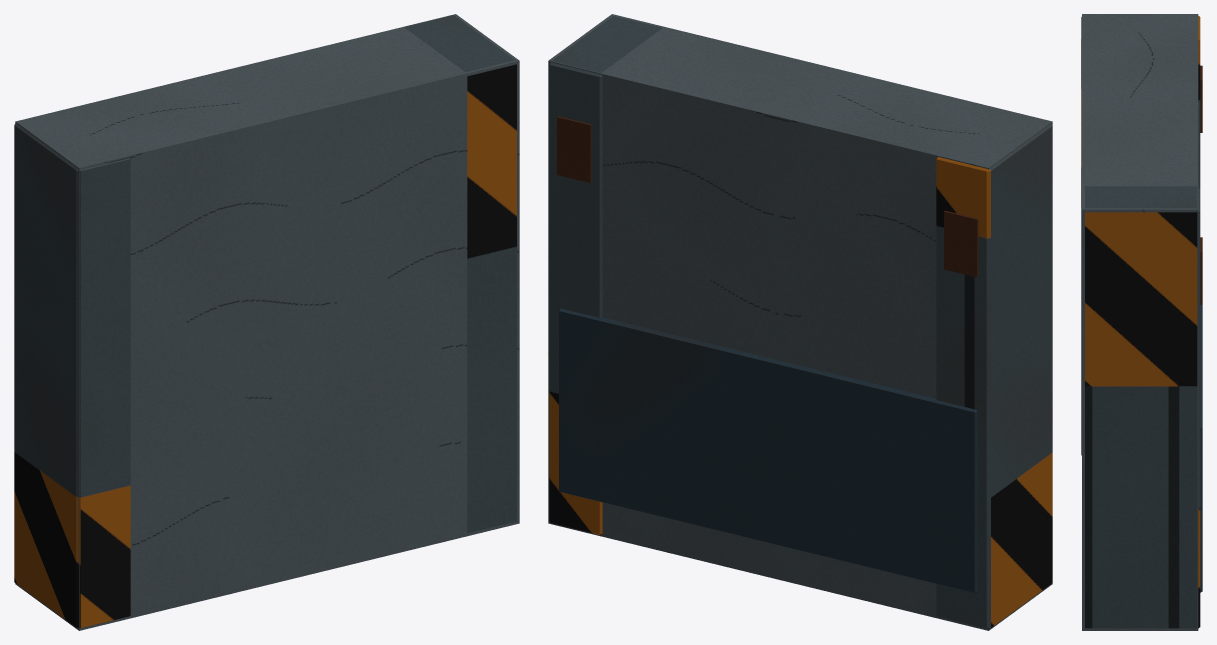
Rendered from Wall_Straight4.fbx.
The picture shows the model from 3 angles, left to right: view 1: azimuth 30°, elevation 25°; view 2: azimuth 150°, elevation 25°; view 3: azimuth 270°, elevation 25°; orthographic projection. The views are drawn at different scales.
Visible parts, largest first — view 1: COL_Foundry_Wall_Straight4_00_Both; view 2: COL_Foundry_Wall_Straight4_00_Both; view 3: COL_Foundry_Wall_Straight4_00_Both.
Part boxes in pixels (bbox=[...]): COL_Foundry_Wall_Straight4_00_Both: bbox=[14, 14, 519, 630]; COL_Foundry_Wall_Straight4_00_Both: bbox=[548, 14, 1052, 630]; COL_Foundry_Wall_Straight4_00_Both: bbox=[1081, 14, 1202, 630].
Size of what is drawn, in the model's own units: 4 by 4 by 1.05.
